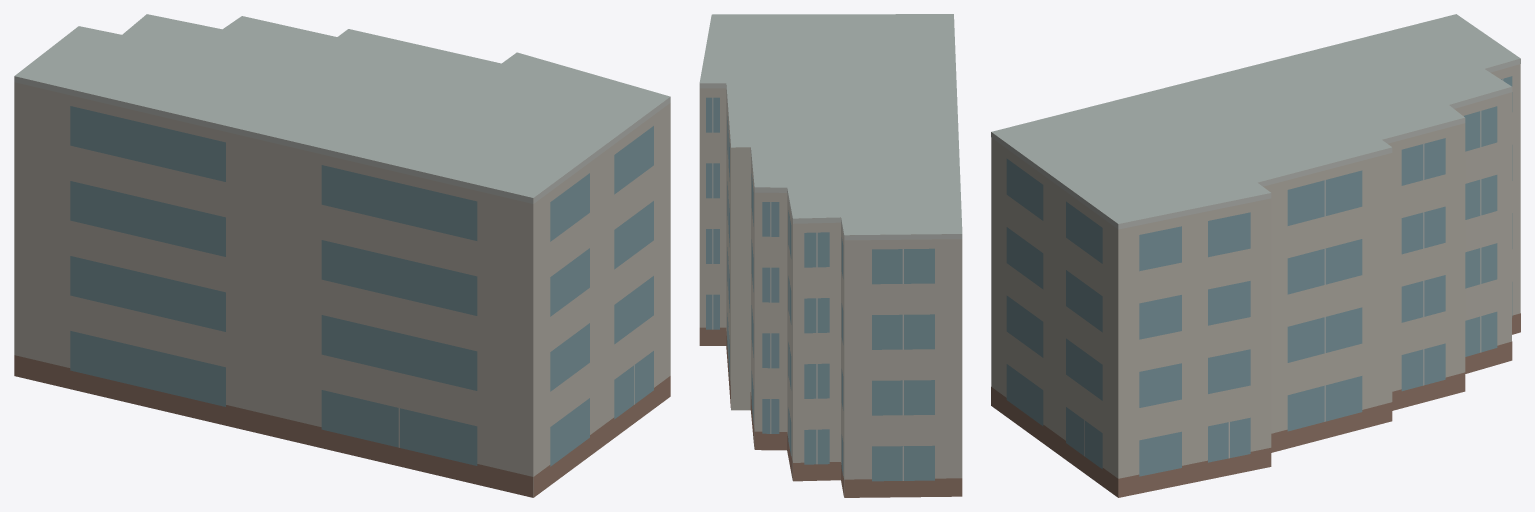
Rendered from survey-upis-32839346.glb.
The picture shows the model from 3 angles, left to right: view 1: azimuth 30°, elevation 25°; view 2: azimuth 150°, elevation 25°; view 3: azimuth 270°, elevation 25°; orthographic projection. The views are drawn at different scales.
Visible parts, largest first — view 1: survey-upis-32839346.tmp; view 2: survey-upis-32839346.tmp; view 3: survey-upis-32839346.tmp.
Part boxes in pixels (x1,y1,x2,y2): survey-upis-32839346.tmp: [14, 14, 670, 497]; survey-upis-32839346.tmp: [699, 14, 962, 497]; survey-upis-32839346.tmp: [991, 14, 1520, 497].
Size of the model in its own units: 20.08 by 12.2 by 21.39.
